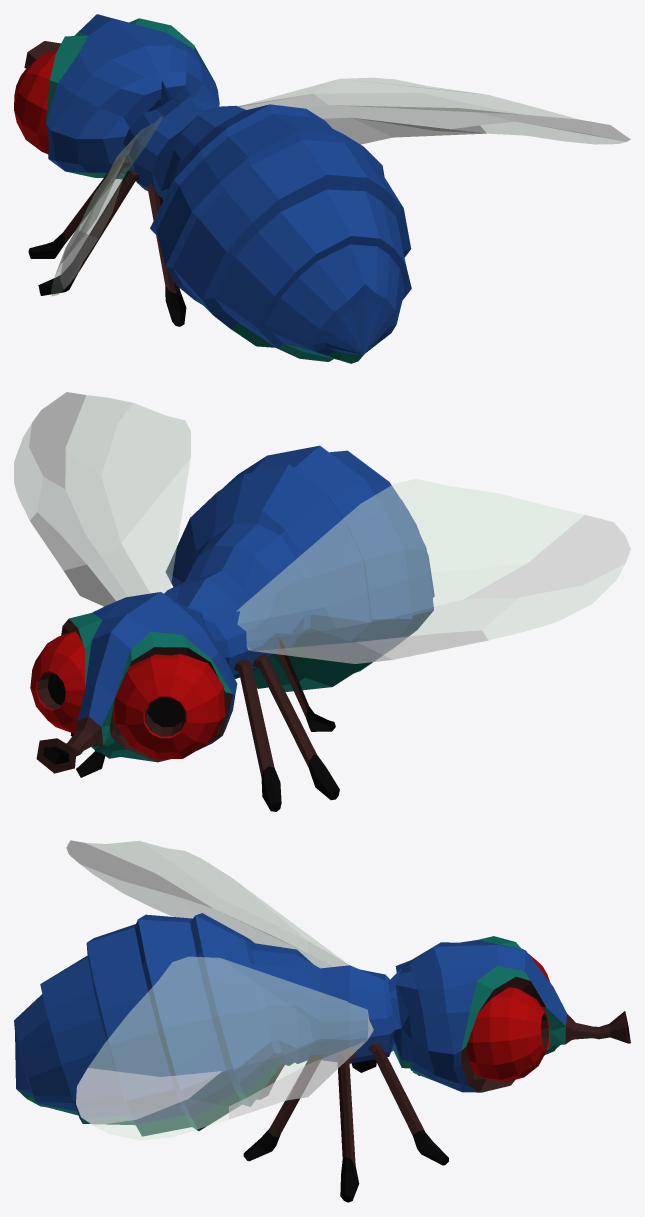
File: low_poly_fly.glb
3 views of the same model, one above another, from view 1: azimuth 30°, elevation 25°; view 2: azimuth 150°, elevation 25°; view 3: azimuth 270°, elevation 25° (orthographic). The views are drawn at different scales.
Visible parts, largest first — view 1: Object_2, Object_7, Object_6, Object_5, Object_3, Object_9, Object_4; view 2: Object_7, Object_2, Object_6, Object_9, Object_5, Object_3, Object_4; view 3: Object_2, Object_7, Object_6, Object_5, Object_9, Object_3, Object_4.
Part boxes in pixels (x1,y1,x2,y2): Object_2: [46, 14, 411, 355]; Object_7: [51, 78, 624, 295]; Object_6: [60, 109, 630, 289]; Object_5: [24, 41, 180, 293]; Object_3: [46, 18, 378, 363]; Object_9: [14, 49, 57, 154]; Object_4: [28, 232, 186, 326]; Object_7: [14, 395, 624, 650]; Object_2: [77, 445, 434, 750]; Object_6: [29, 392, 630, 663]; Object_9: [30, 631, 225, 759]; Object_5: [36, 619, 316, 777]; Object_3: [61, 613, 391, 762]; Object_4: [43, 673, 339, 811]; Object_2: [14, 913, 567, 1123]; Object_7: [81, 841, 367, 1140]; Object_6: [66, 840, 373, 1125]; Object_5: [268, 976, 630, 1165]; Object_9: [466, 949, 550, 1081]; Object_3: [16, 936, 565, 1136]; Object_4: [243, 1020, 629, 1202].
Bounding box in the file's own units: 2.95 × 1.23 × 2.9.
